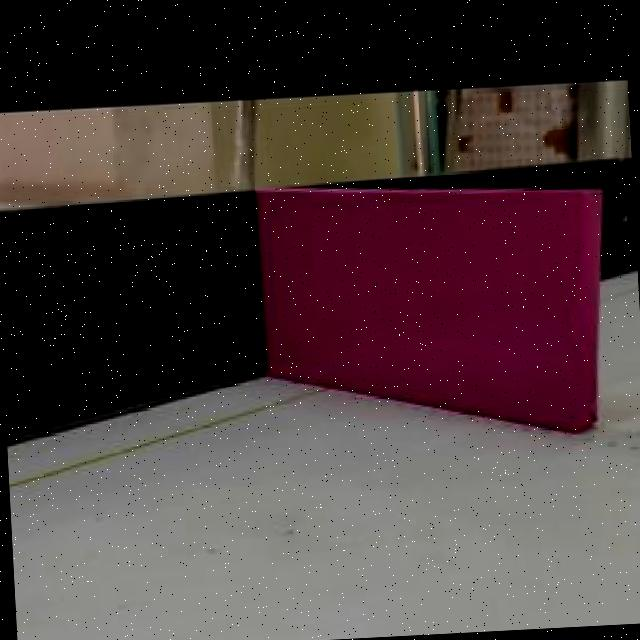xparking: (252, 194, 600, 422)
